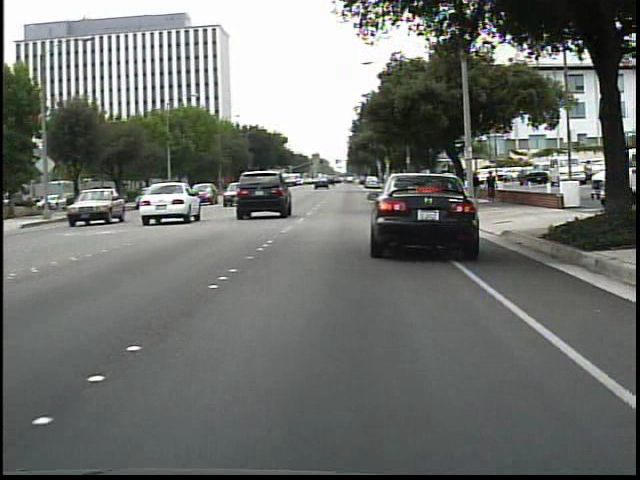person: (484, 170, 499, 205), (469, 171, 484, 202)
